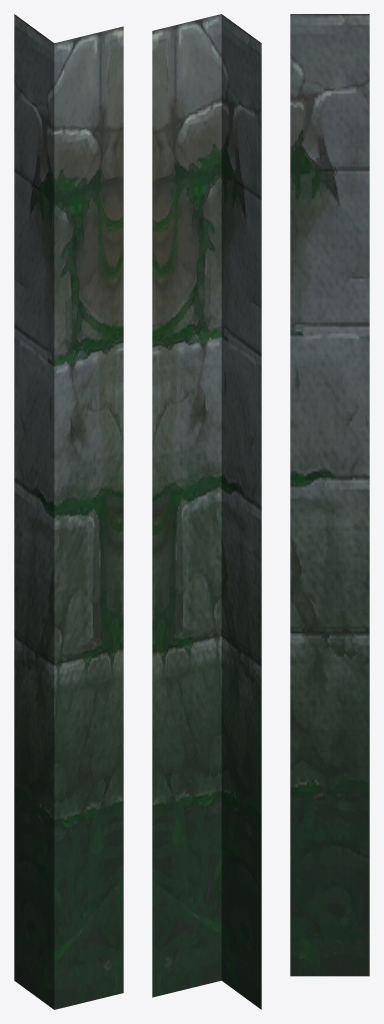
The model's file is stemple_wall_convex_05.fbx.
3 renders of one model, left to right at view 1: azimuth 30°, elevation 25°; view 2: azimuth 210°, elevation 25°; view 3: azimuth 270°, elevation 25°, orthographic.
Visible parts, largest first — view 1: obj0.084; view 2: obj0.084; view 3: obj0.084.
Boxes of the visible parts, <box> form: obj0.084: <box>14,14,123,1009</box>; obj0.084: <box>152,14,261,1009</box>; obj0.084: <box>290,14,369,976</box>.
Bounding box in the file's own units: 0.4128 × 5.5 × 0.4127.
